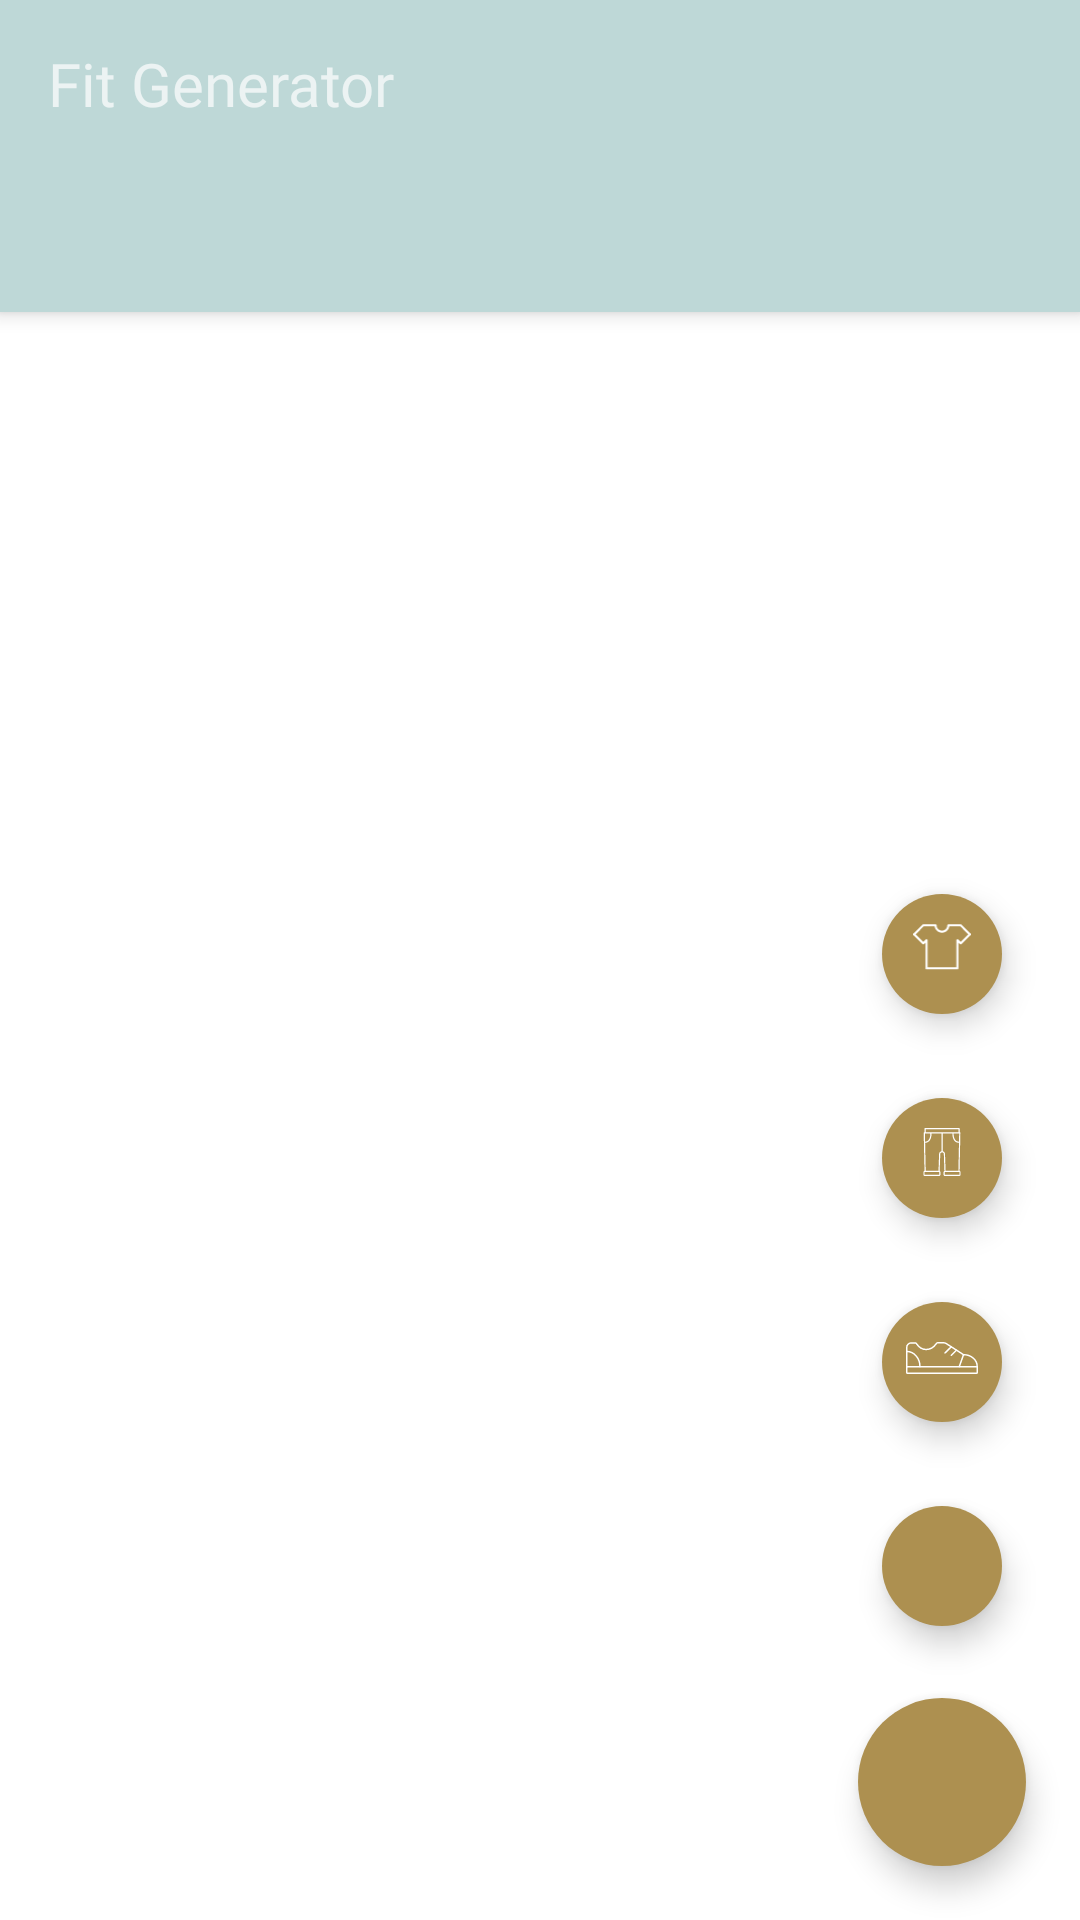

Named icons in this screenshot (1080w x 1920h) and their bounding boxes, (x1, y1, x2, y2):
pants: (882, 1098, 1004, 1227)
shirt: (882, 894, 1004, 1021)
shoes: (882, 1302, 1004, 1433)
